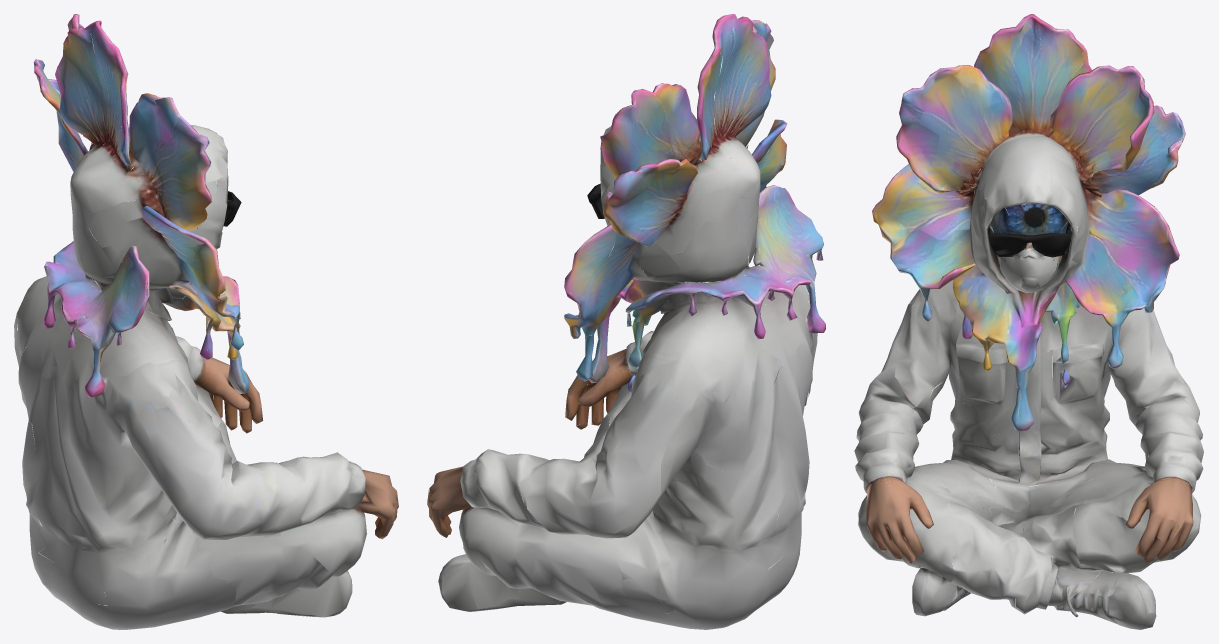
The model's file is robber.glb.
3 views of the same model, side by side, from view 1: azimuth 30°, elevation 25°; view 2: azimuth 150°, elevation 25°; view 3: azimuth 270°, elevation 25° (orthographic). The views are drawn at different scales.
Parts seen in each view (by area): view 1: tripo_node_d2d8d7c2-effa-49cc-8b4e-33de79e9e200; view 2: tripo_node_d2d8d7c2-effa-49cc-8b4e-33de79e9e200; view 3: tripo_node_d2d8d7c2-effa-49cc-8b4e-33de79e9e200.
Part boxes in pixels (box(x1,y1,x2,y2)): tripo_node_d2d8d7c2-effa-49cc-8b4e-33de79e9e200: box(14, 14, 398, 629); tripo_node_d2d8d7c2-effa-49cc-8b4e-33de79e9e200: box(427, 14, 825, 629); tripo_node_d2d8d7c2-effa-49cc-8b4e-33de79e9e200: box(854, 14, 1203, 629).
Bounding box in the file's own units: 0.4993 × 1 × 0.6029.
Materials: 1 (1 with a texture image).
